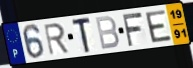6: (21, 23, 45, 60)
B: (94, 15, 121, 51)
E: (143, 9, 173, 44)
F: (121, 11, 144, 48)
R: (42, 22, 71, 58)
T: (71, 15, 93, 55)
